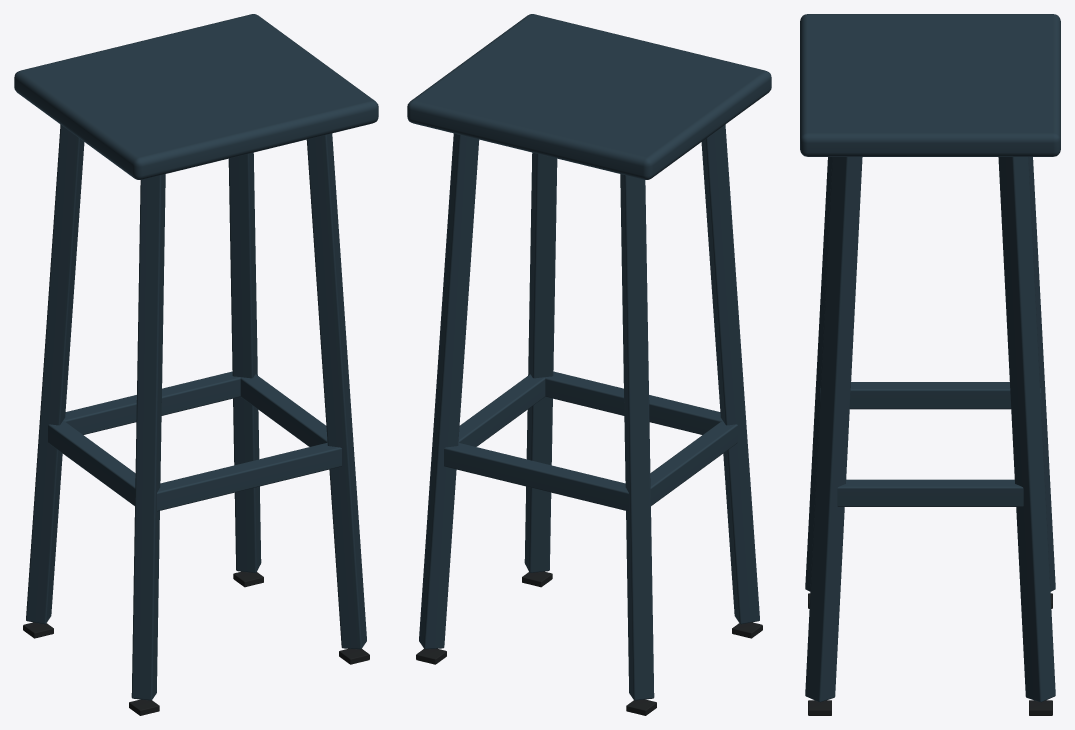
The picture shows the model from 3 angles, left to right: view 1: azimuth 30°, elevation 25°; view 2: azimuth 150°, elevation 25°; view 3: azimuth 270°, elevation 25°; orthographic projection. The views are drawn at different scales.
Visible parts, largest first — view 1: Narrow rectangular top, Square stool glide; view 2: Narrow rectangular top, Square stool glide; view 3: Narrow rectangular top, Square stool glide.
Boxes of the visible parts, x1=… form: Narrow rectangular top: x1=14, y1=14, x2=378, y2=700; Square stool glide: x1=23, y1=571, x2=369, y2=715; Narrow rectangular top: x1=407, y1=14, x2=771, y2=700; Square stool glide: x1=416, y1=571, x2=762, y2=715; Narrow rectangular top: x1=800, y1=14, x2=1060, y2=702; Square stool glide: x1=808, y1=593, x2=1052, y2=715.
Size of the model in its own units: 0.345 by 0.753 by 0.305.
